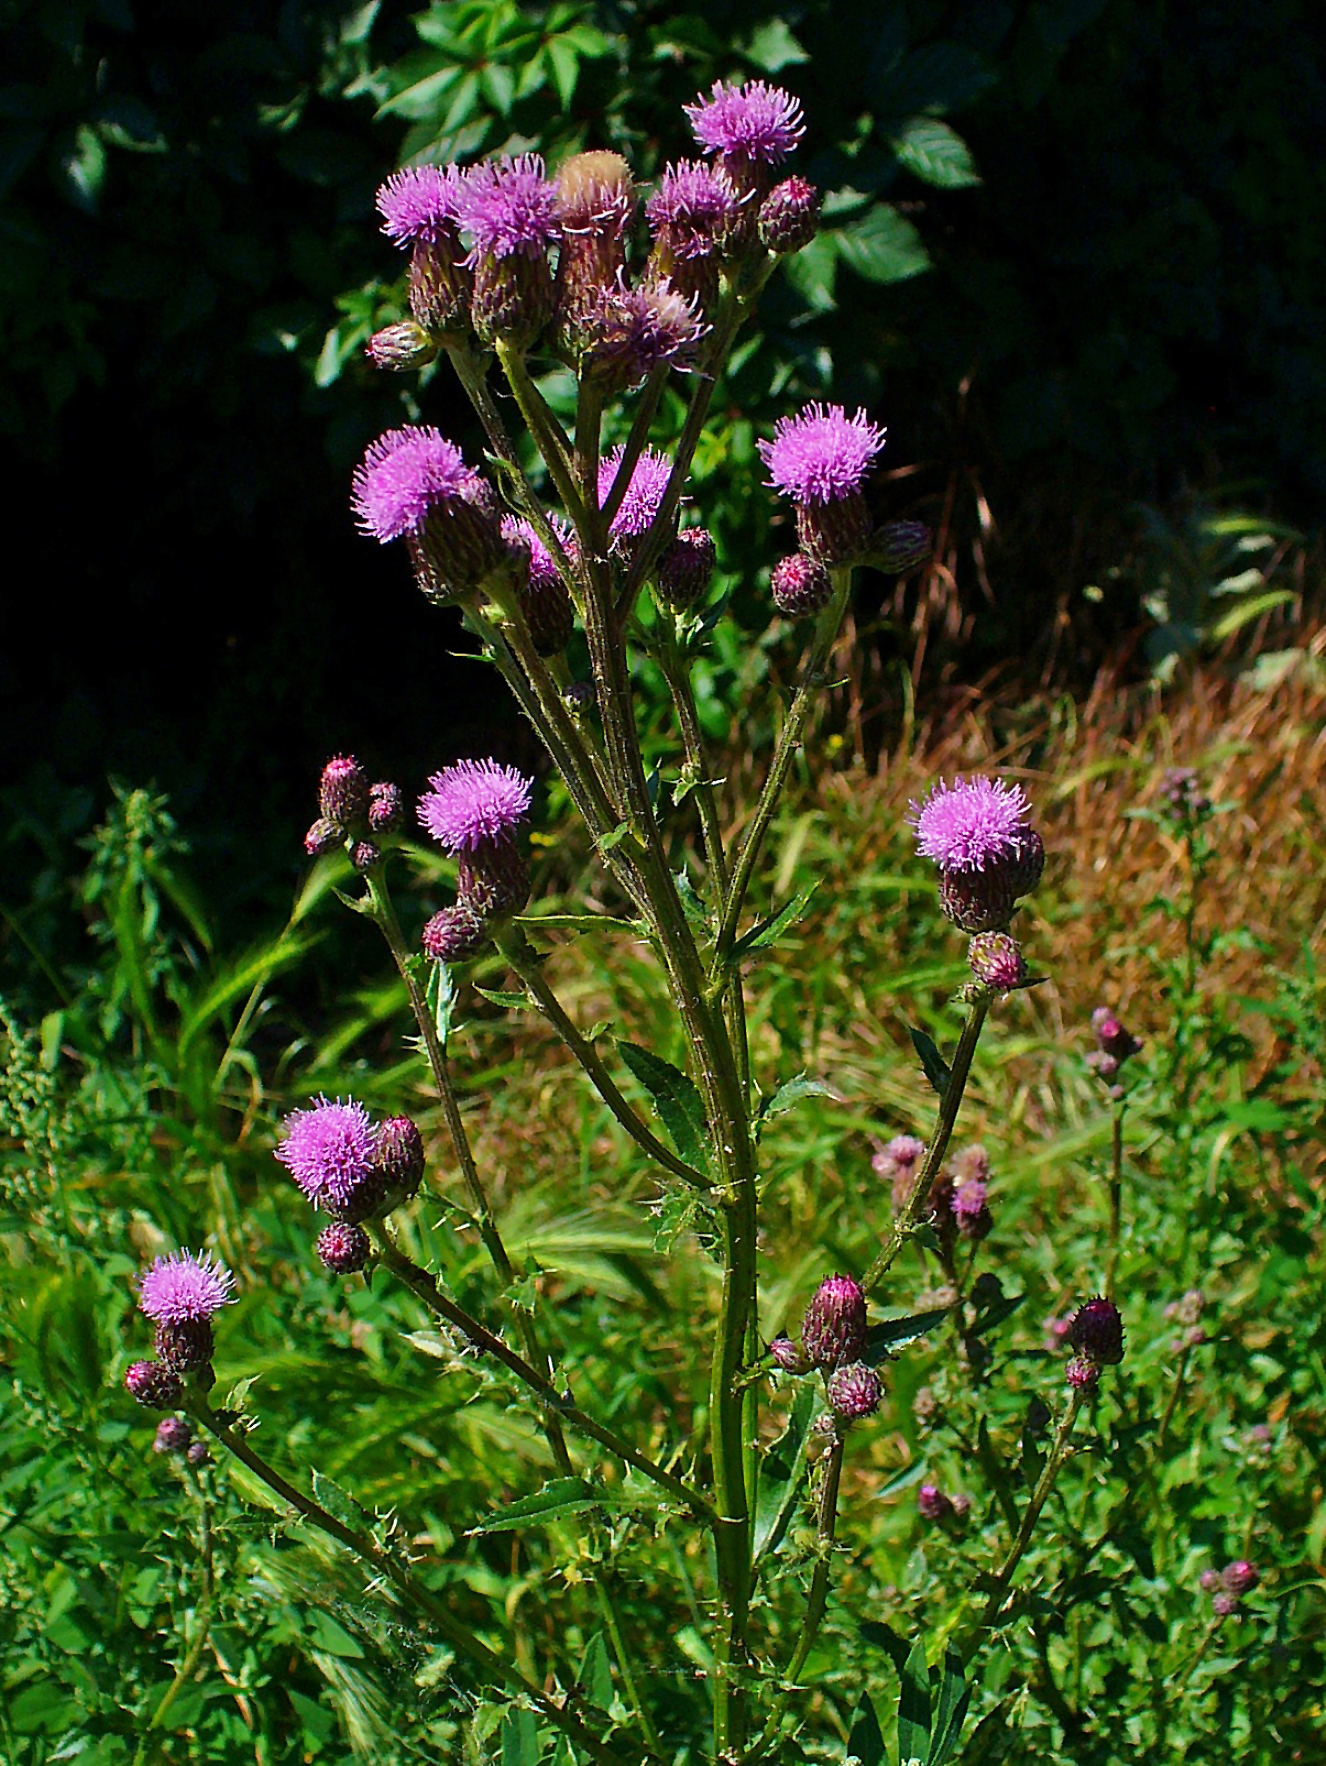thistle: (330, 416, 503, 621), (352, 150, 494, 377), (886, 767, 1052, 950), (765, 409, 898, 571), (416, 763, 554, 914), (460, 174, 563, 350), (682, 67, 806, 210), (266, 1102, 391, 1231), (130, 1249, 224, 1384), (635, 162, 724, 272)
